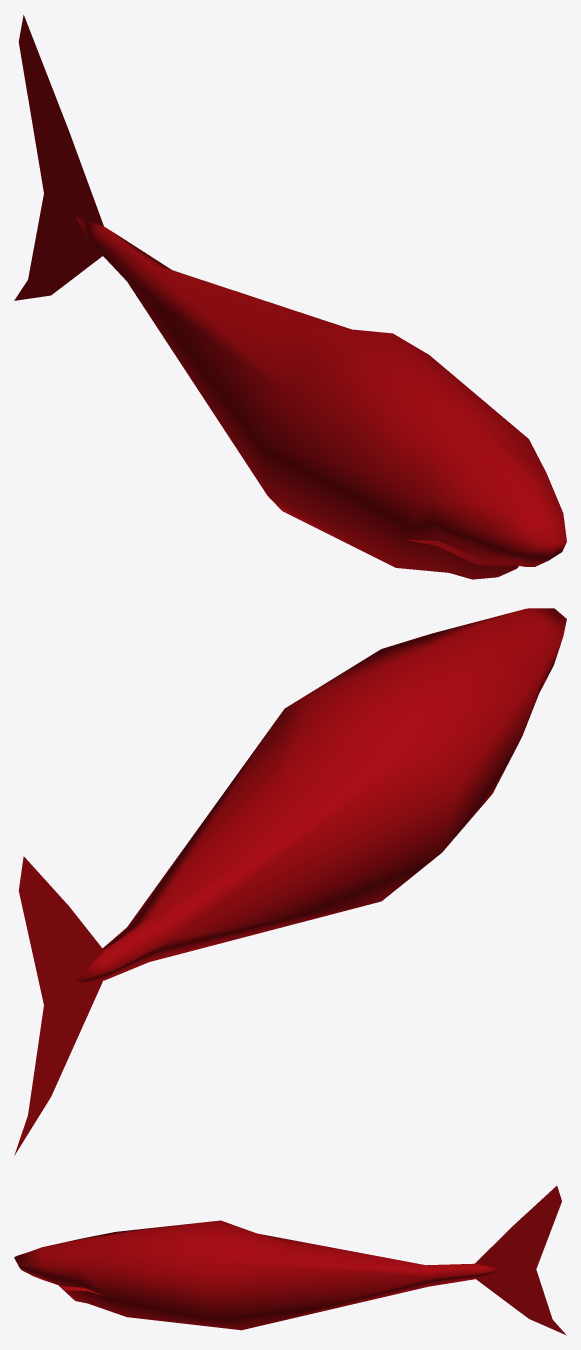
The model's file is Shark.glb.
3 renders of one model, top to bottom at view 1: azimuth 30°, elevation 25°; view 2: azimuth 150°, elevation 25°; view 3: azimuth 270°, elevation 25°, orthographic. The views are drawn at different scales.
Visible parts, largest first — view 1: Plane, Plane.001; view 2: Plane, Plane.001; view 3: Plane, Plane.001.
Boxes of the visible parts, <box> form: Plane: <box>76,217,566,579</box>; Plane.001: <box>14,15,103,300</box>; Plane: <box>76,608,566,981</box>; Plane.001: <box>14,856,103,1155</box>; Plane: <box>14,1220,503,1330</box>; Plane.001: <box>475,1186,566,1335</box>.
Bounding box in the file's own units: 1.45 × 2.11 × 7.03.
